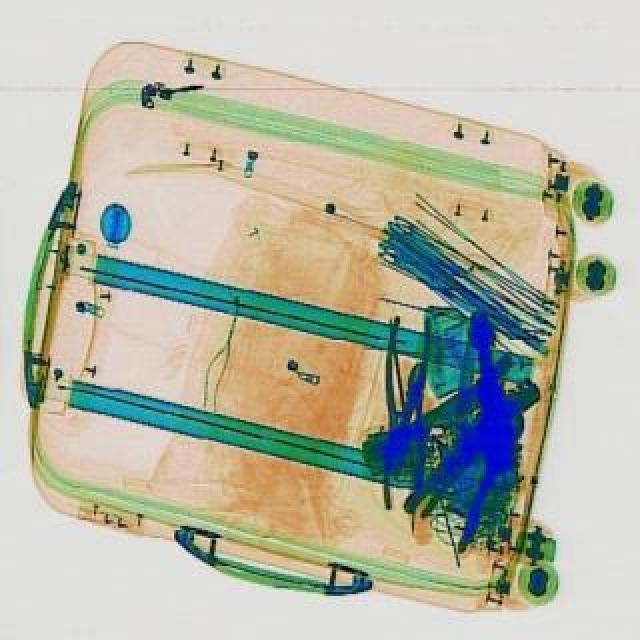wrench: (376, 356, 440, 510), (374, 312, 430, 464)
